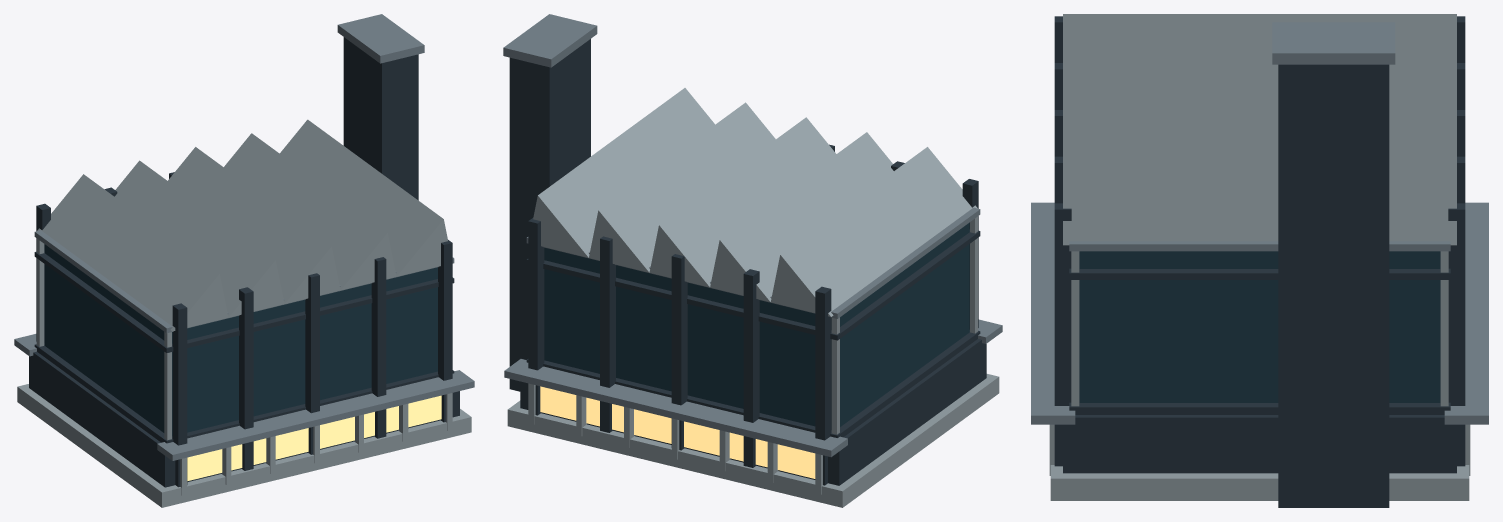
Rendered from vrx_city_works_a_LOD1.fbx.
3 views of the same model, side by side, from view 1: azimuth 30°, elevation 25°; view 2: azimuth 150°, elevation 25°; view 3: azimuth 270°, elevation 25° (orthographic). The views are drawn at different scales.
Visible parts, largest first — view 1: vrx_city_works_a_LOD1; view 2: vrx_city_works_a_LOD1; view 3: vrx_city_works_a_LOD1.
Part boxes in pixels (left/top/right/bottom): vrx_city_works_a_LOD1: left=14, top=14, right=474, bottom=507; vrx_city_works_a_LOD1: left=503, top=14, right=1002, bottom=507; vrx_city_works_a_LOD1: left=1031, top=14, right=1488, bottom=507.
Size of the model in its own units: 46 by 42 by 37.2.
